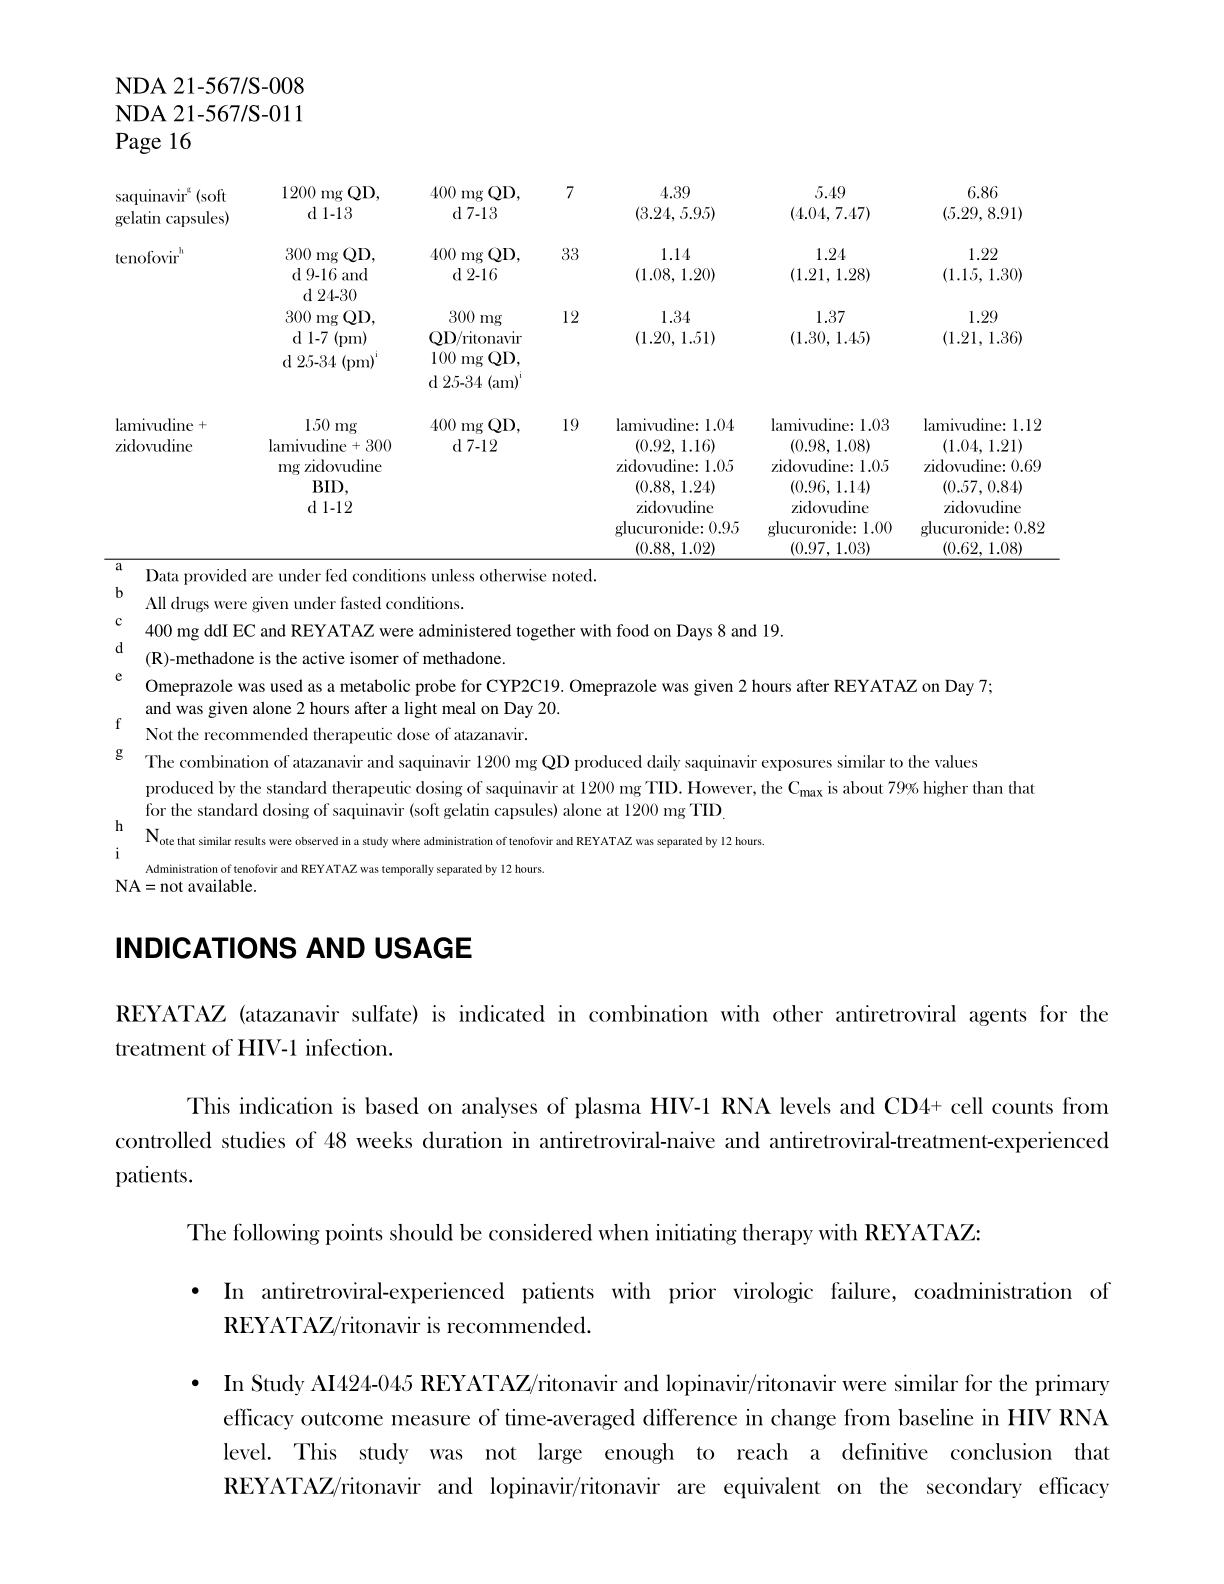nolines: (108, 186, 1049, 557)
